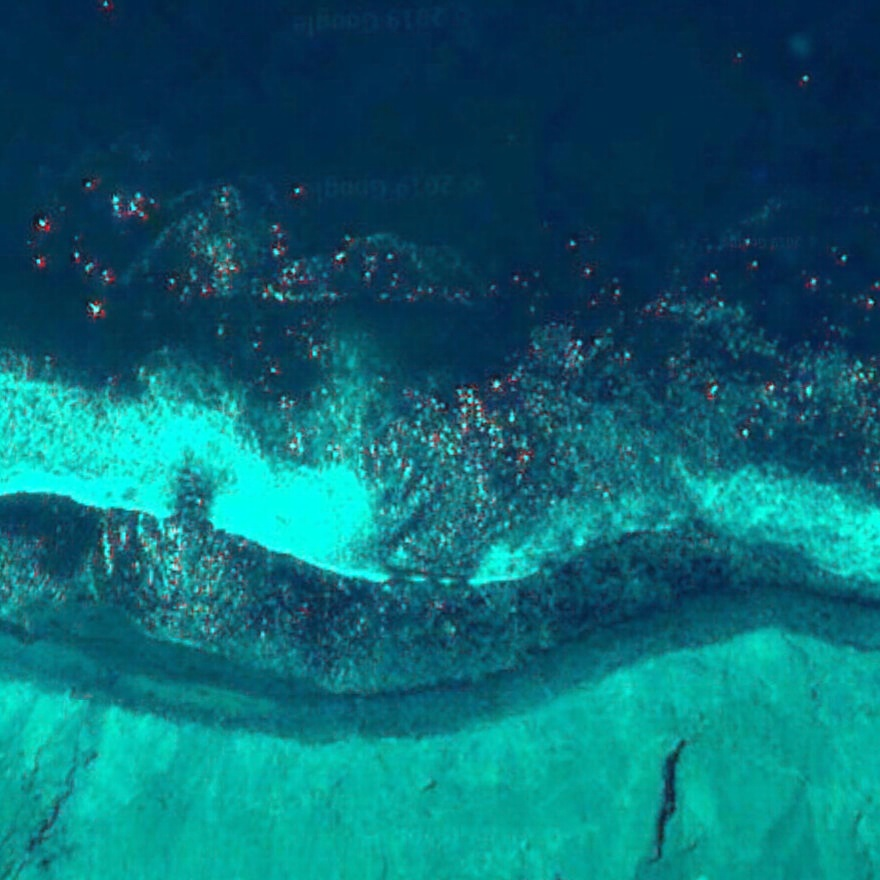rip_current: (297, 339, 544, 598)
